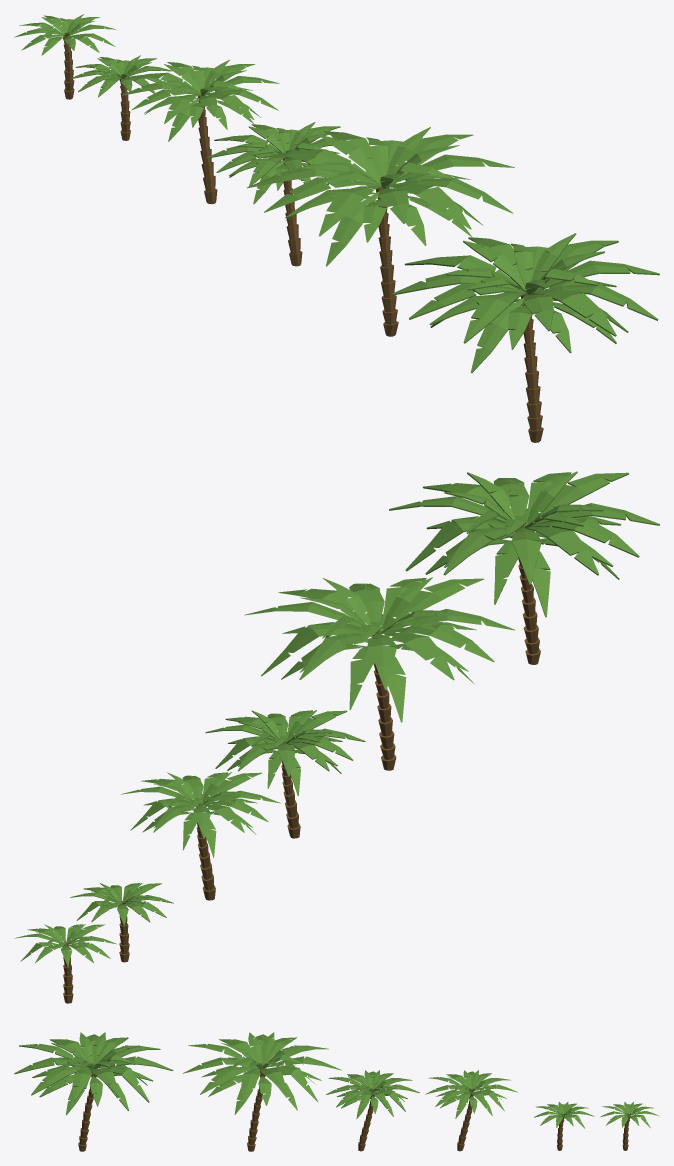
File: 3LP Palm trees.fbx
3 renders of one model, top to bottom at view 1: azimuth 30°, elevation 25°; view 2: azimuth 150°, elevation 25°; view 3: azimuth 270°, elevation 25°, orthographic. The views are drawn at different scales.
Parts seen in each view (by area): view 1: Palm Tree L T, Plam Tree L, Palm Tree M, Palm Tree M T, Palm Tree S, Palm Tree S T; view 2: Palm Tree L T, Plam Tree L, Palm Tree M T, Palm Tree M, Palm Tree S T, Palm Tree S; view 3: Palm Tree L T, Plam Tree L, Palm Tree M T, Palm Tree M, Palm Tree S T, Palm Tree S.
Part boxes in pixels (box(x1,y1,x2,y2)): Palm Tree L T: box(391, 233, 659, 442); Plam Tree L: box(247, 127, 514, 336); Palm Tree M: box(121, 59, 279, 204); Palm Tree M T: box(206, 122, 352, 266); Palm Tree S: box(14, 14, 115, 99); Palm Tree S T: box(70, 55, 172, 140); Palm Tree L T: box(389, 471, 659, 664); Plam Tree L: box(244, 577, 515, 770); Palm Tree M T: box(205, 710, 365, 838); Palm Tree M: box(121, 772, 280, 900); Palm Tree S T: box(70, 883, 173, 962); Palm Tree S: box(14, 924, 116, 1003); Palm Tree L T: box(14, 1032, 173, 1151); Plam Tree L: box(183, 1032, 341, 1151); Palm Tree M T: box(326, 1070, 419, 1151); Palm Tree M: box(425, 1070, 518, 1151); Palm Tree S T: box(534, 1102, 594, 1150); Palm Tree S: box(600, 1102, 659, 1150).
Size of the model in its own units: 1838 by 1329 by 7554.
